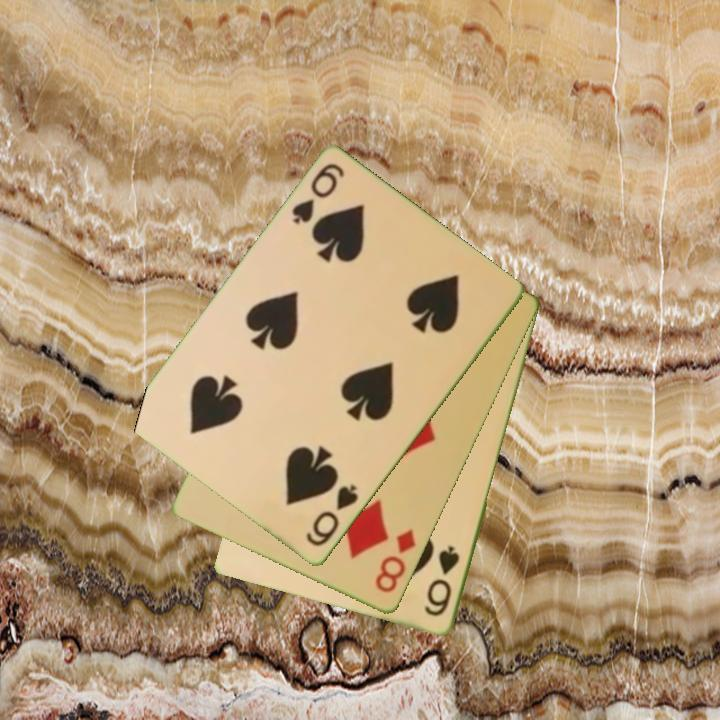6s: (302, 481, 362, 550), (288, 160, 348, 228), (421, 543, 463, 620)
8d: (372, 526, 419, 597)
